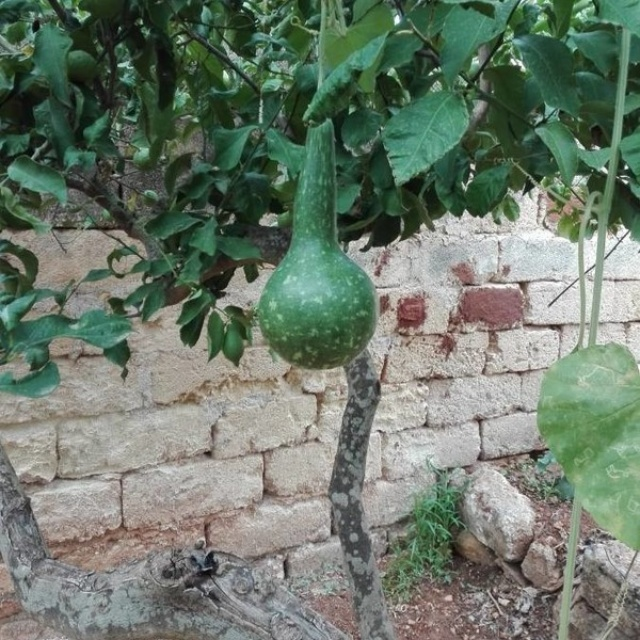obstacle: (113, 19, 614, 357)
